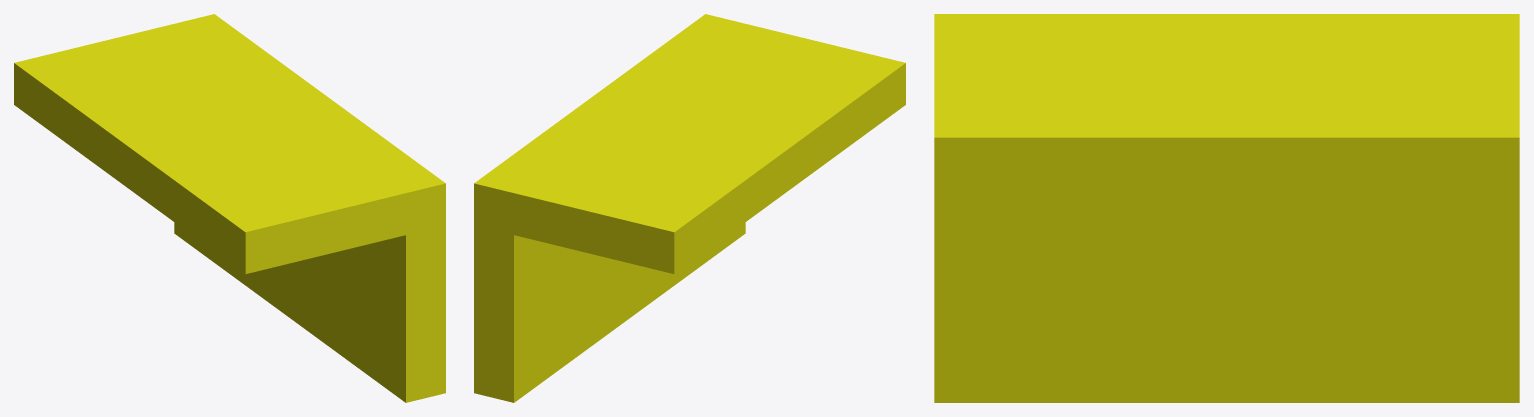
File: ResizeMarker.glb
The picture shows the model from 3 angles, left to right: view 1: azimuth 30°, elevation 25°; view 2: azimuth 150°, elevation 25°; view 3: azimuth 270°, elevation 25°; orthographic projection. The views are drawn at different scales.
Visible parts, largest first — view 1: Cube; view 2: Cube; view 3: Cube.
Boxes of the visible parts, <box> form: Cube: <box>14,14,445,402</box>; Cube: <box>474,14,905,402</box>; Cube: <box>934,14,1519,402</box>.
Bounding box in the file's own units: 0.5 × 0.5 × 1.
